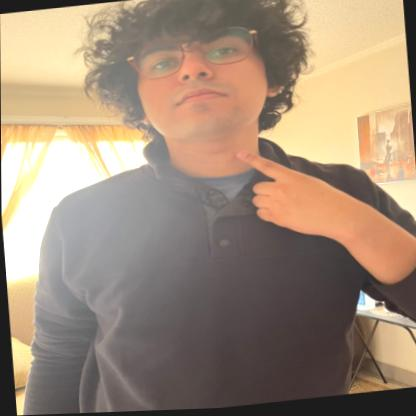Q: (219, 123, 376, 261)
